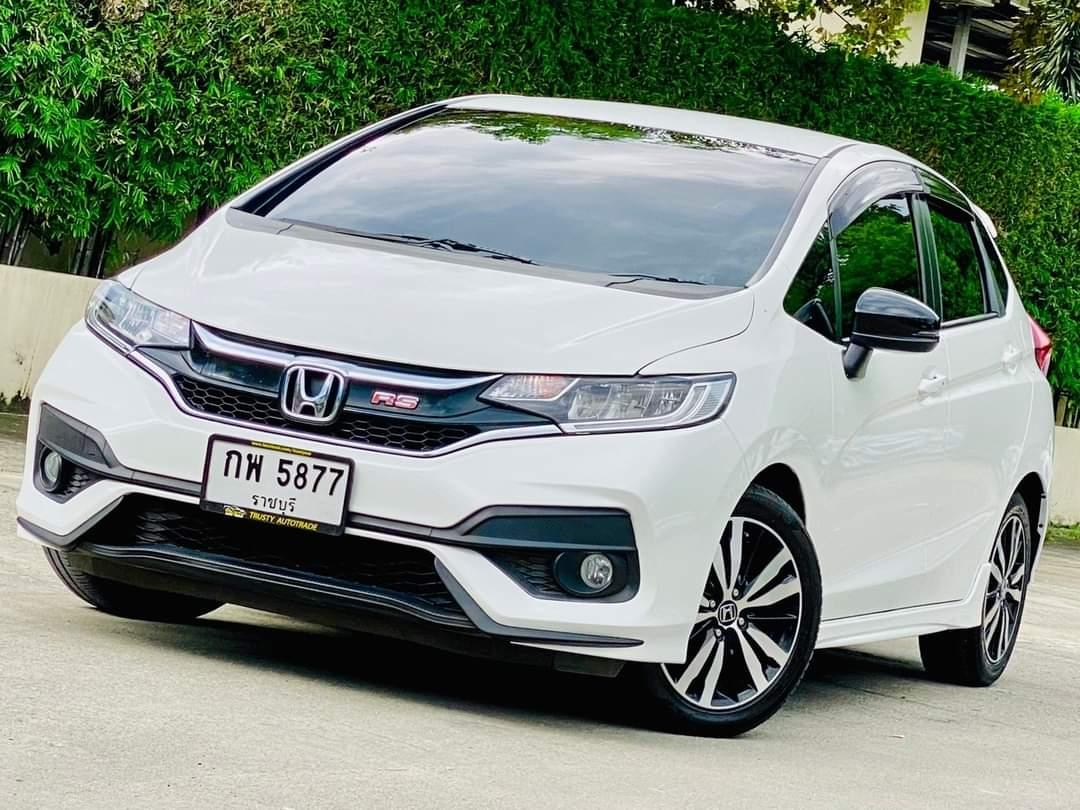license-plate: (198, 431, 355, 544)
